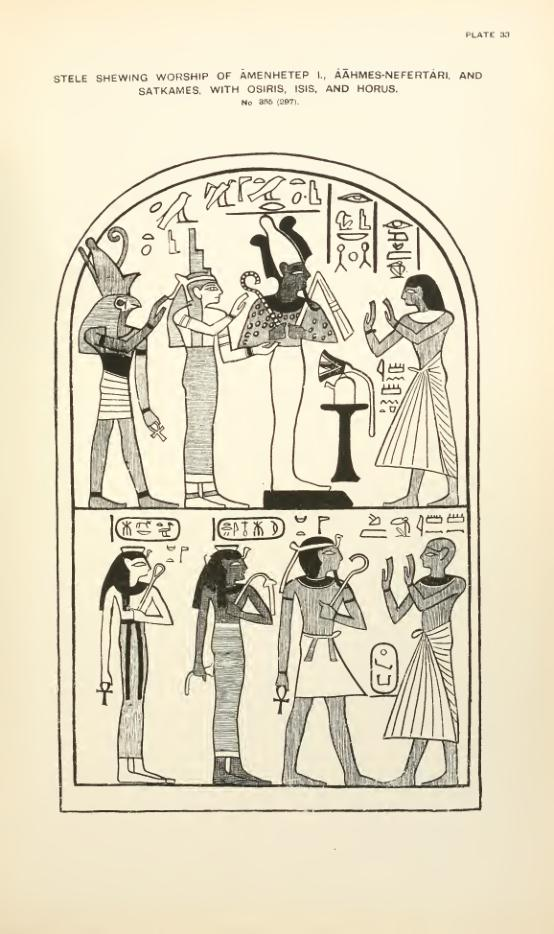circle: (363, 636, 404, 703), (203, 512, 288, 541), (106, 512, 183, 544)
